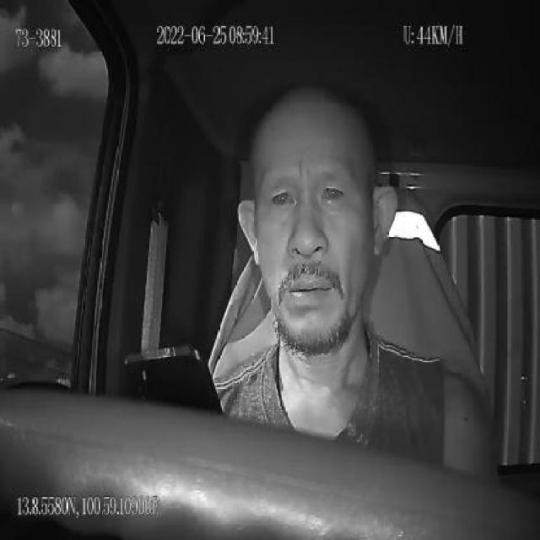phone: (124, 341, 224, 418)
